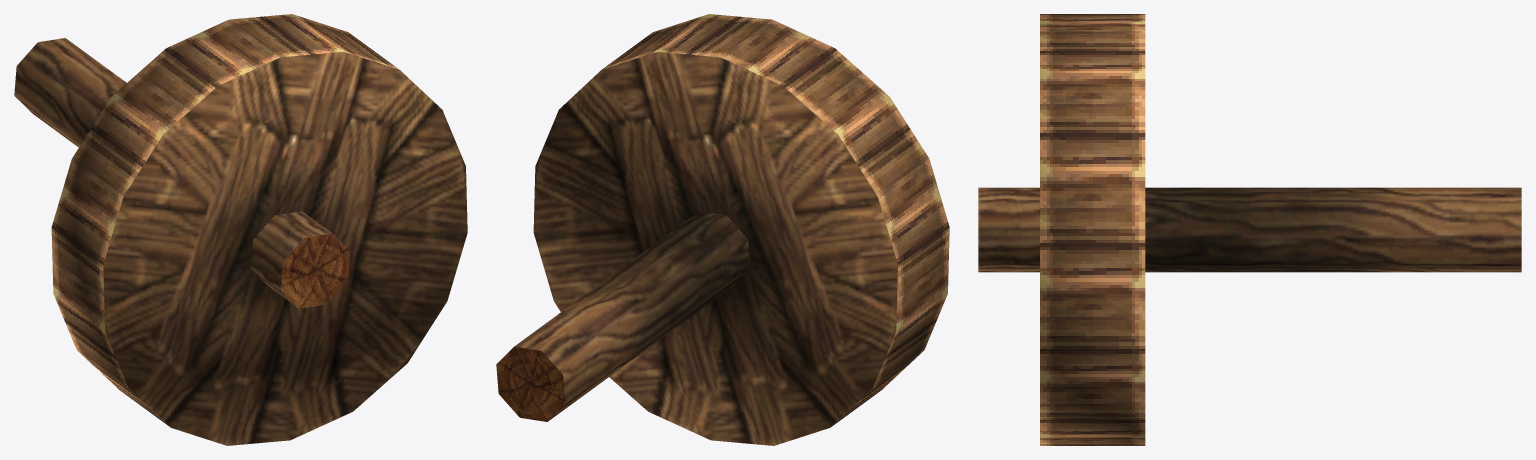
File: INST_SWORDLIGHT_DRUMC.fbx
3 renders of one model, left to right at view 1: azimuth 30°, elevation 25°; view 2: azimuth 150°, elevation 25°; view 3: azimuth 270°, elevation 25°, orthographic.
Visible parts, largest first — view 1: INST_SWORDLIGHT_DRUMC; view 2: INST_SWORDLIGHT_DRUMC; view 3: INST_SWORDLIGHT_DRUMC.
Part boxes in pixels (box(x1,y1,x2,y2)): INST_SWORDLIGHT_DRUMC: box(14, 14, 467, 445); INST_SWORDLIGHT_DRUMC: box(496, 14, 949, 445); INST_SWORDLIGHT_DRUMC: box(978, 14, 1521, 445).
Bounding box in the file's own units: 25125 × 25391 × 31880.
4 materials, 4 textured.
